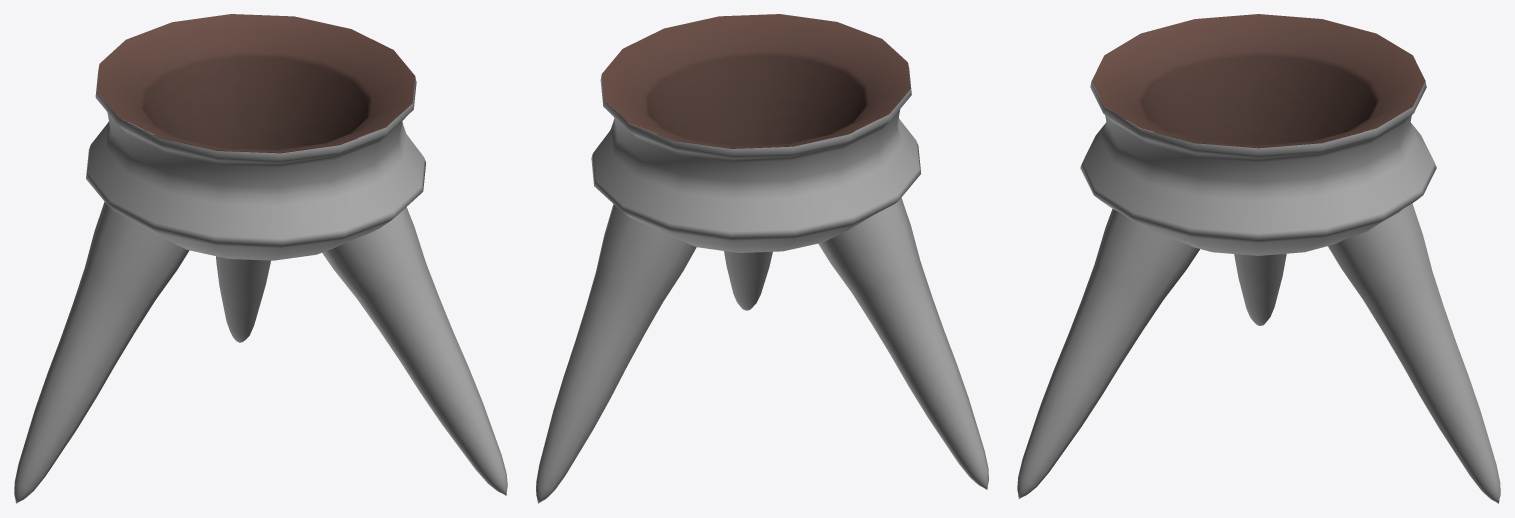
Rendered from Clay-3Legs002.fbx.
The picture shows the model from 3 angles, left to right: view 1: azimuth 30°, elevation 25°; view 2: azimuth 150°, elevation 25°; view 3: azimuth 270°, elevation 25°; orthographic projection. The views are drawn at different scales.
Visible parts, largest first — view 1: polySurface5, pCylinder9; view 2: polySurface5, pCylinder9; view 3: polySurface5, pCylinder9.
Boxes of the visible parts, x1,y1,x2,y2 form: polySurface5: [14, 67, 507, 503]; pCylinder9: [96, 14, 415, 153]; polySurface5: [536, 63, 988, 503]; pCylinder9: [601, 14, 910, 148]; polySurface5: [1017, 81, 1500, 503]; pCylinder9: [1092, 14, 1425, 148].
Bounding box in the file's own units: 4.12 × 3.8 × 4.47.
